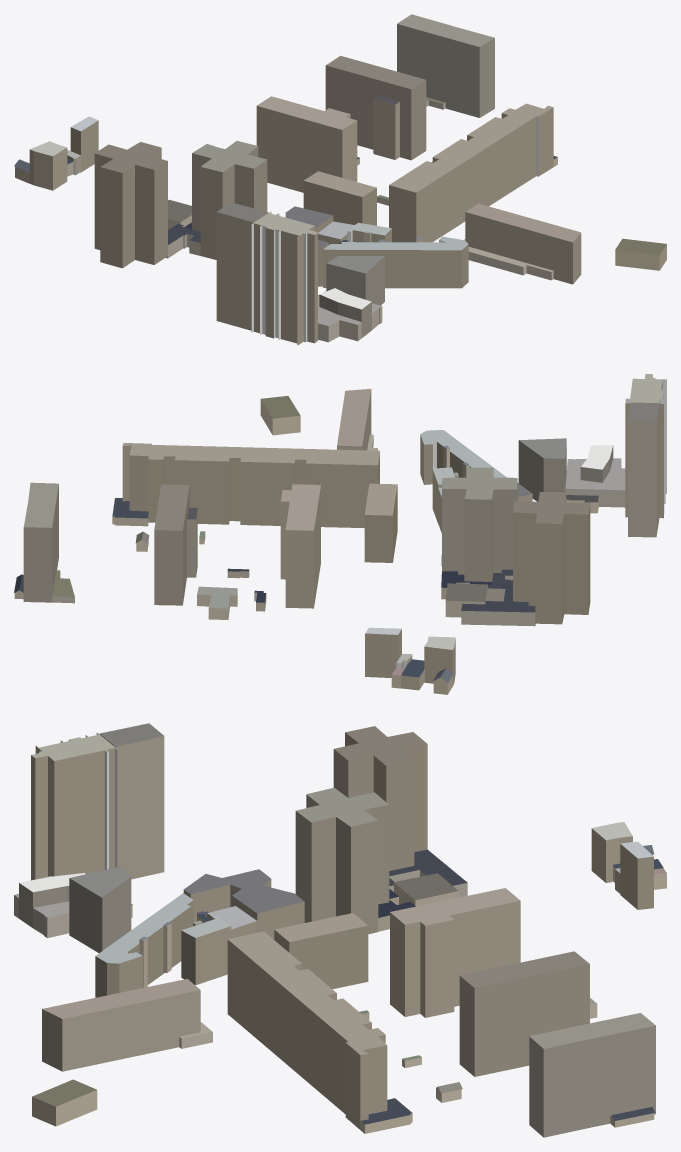
3 renders of one model, top to bottom at view 1: azimuth 30°, elevation 25°; view 2: azimuth 150°, elevation 25°; view 3: azimuth 270°, elevation 25°, orthographic. The views are drawn at different scales.
Parts seen in each view (by area): view 1: tuile; view 2: tuile; view 3: tuile.
Boxes of the visible parts, box(x1,y1,x2,y2) form: tuile: box(14, 14, 666, 345); tuile: box(14, 374, 666, 694); tuile: box(14, 723, 666, 1137).
Bounding box in the file's own units: 274 × 68.65 × 268.
